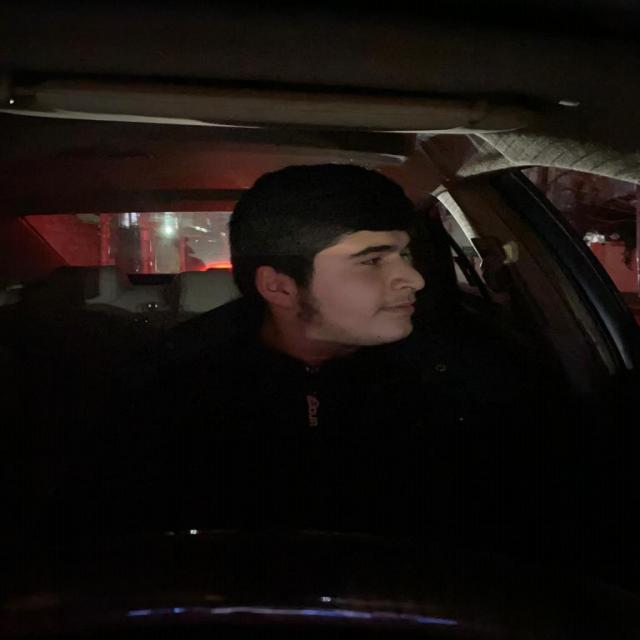LeftRight: (216, 157, 423, 345)
